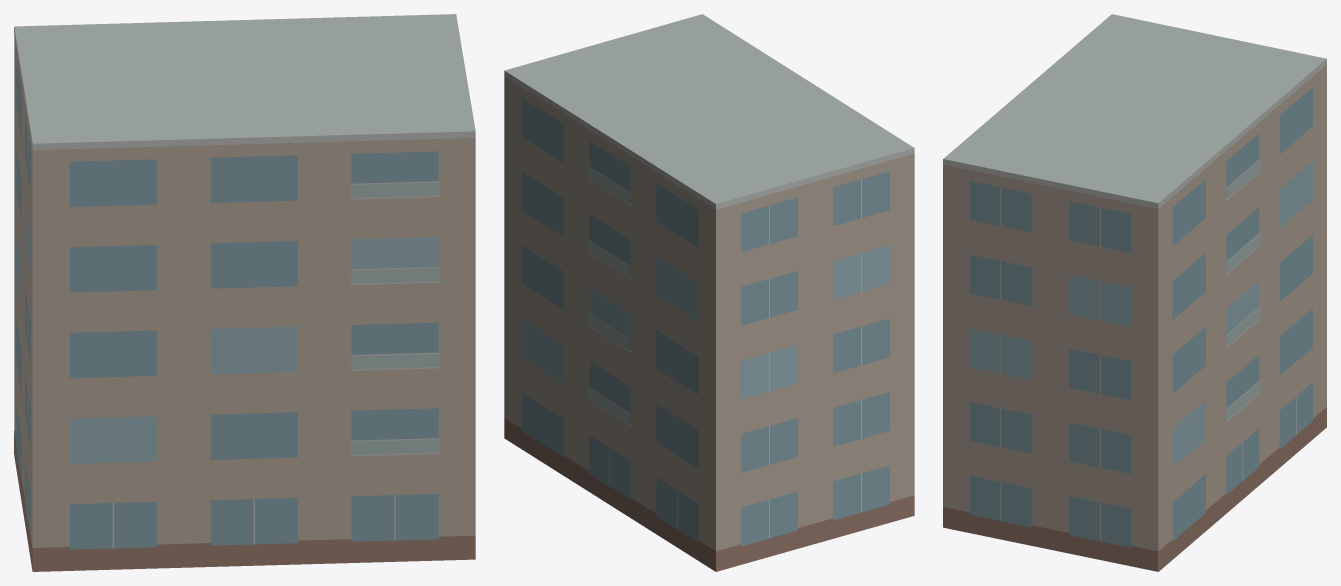
The model's file is survey-upis-32525436.glb.
3 views of the same model, side by side, from view 1: azimuth 30°, elevation 25°; view 2: azimuth 150°, elevation 25°; view 3: azimuth 270°, elevation 25° (orthographic). The views are drawn at different scales.
Visible parts, largest first — view 1: survey-upis-32525436.tmp; view 2: survey-upis-32525436.tmp; view 3: survey-upis-32525436.tmp.
Boxes of the visible parts, left/top/right/bottom form: survey-upis-32525436.tmp: left=14, top=14, right=475, bottom=571; survey-upis-32525436.tmp: left=504, top=14, right=914, bottom=571; survey-upis-32525436.tmp: left=943, top=14, right=1326, bottom=571.
Size of the model in its own units: 17.63 by 16 by 15.11.
